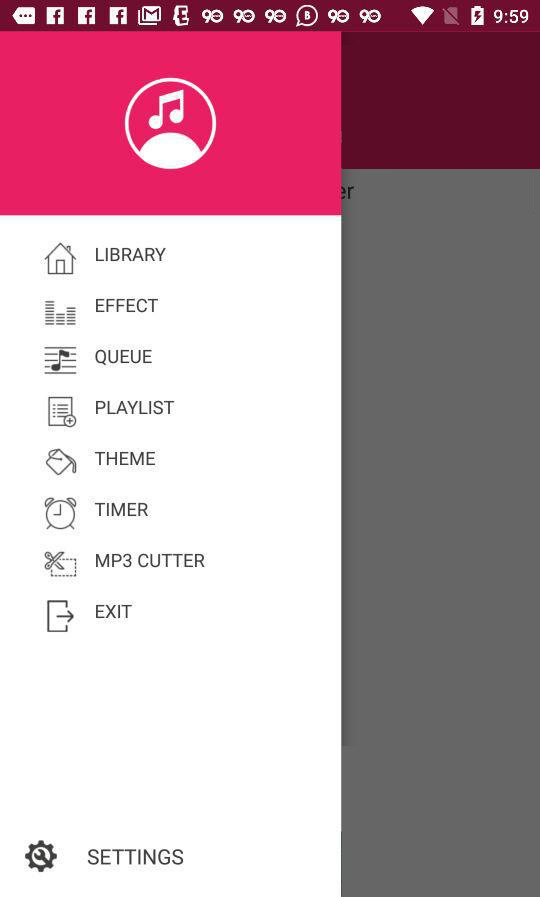Drawer: (1, 32, 341, 897)
Icon: (44, 242, 78, 276), (45, 496, 78, 531), (25, 840, 59, 873), (48, 396, 78, 429), (47, 599, 76, 633)
Image: (124, 78, 218, 171), (44, 345, 79, 376), (44, 550, 78, 578), (44, 300, 79, 327), (46, 448, 78, 476)
Text: (95, 552, 206, 569), (88, 847, 185, 866), (96, 400, 176, 416), (96, 247, 168, 263), (96, 297, 160, 314), (95, 349, 154, 367), (95, 451, 157, 467), (95, 502, 150, 518), (96, 604, 135, 620)
UpperTaskBar: (1, 1, 540, 33)
